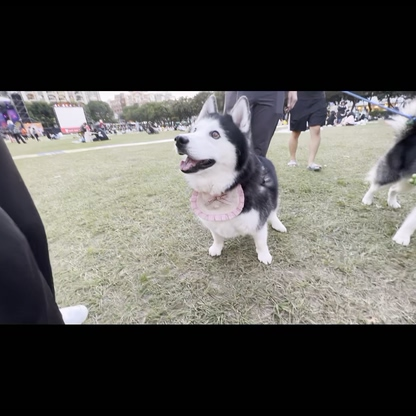husky: (170, 91, 291, 270)
